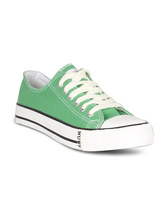shoes: (10, 60, 157, 158)
